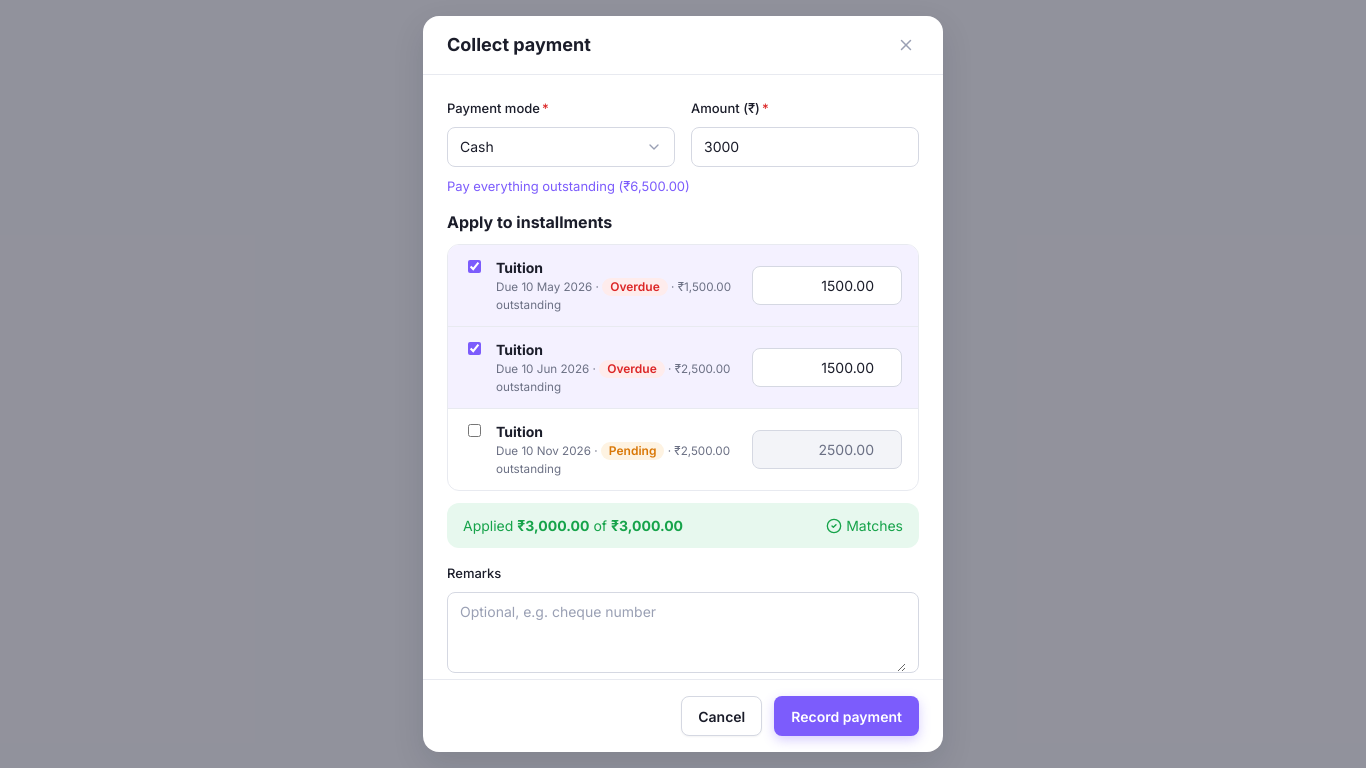
Test case: CollectPaymentDialogComponent › submit is disabled until the split equals the amount: editing one allocation breaks it, fixing it restores it
Expected: the button "Record payment" is enabled, [774,696,919,736]
Replace the text in the number field named "Amount for Tuition due 10 Jun 2026" with "1000" at (827, 368), box [752,348,902,387]
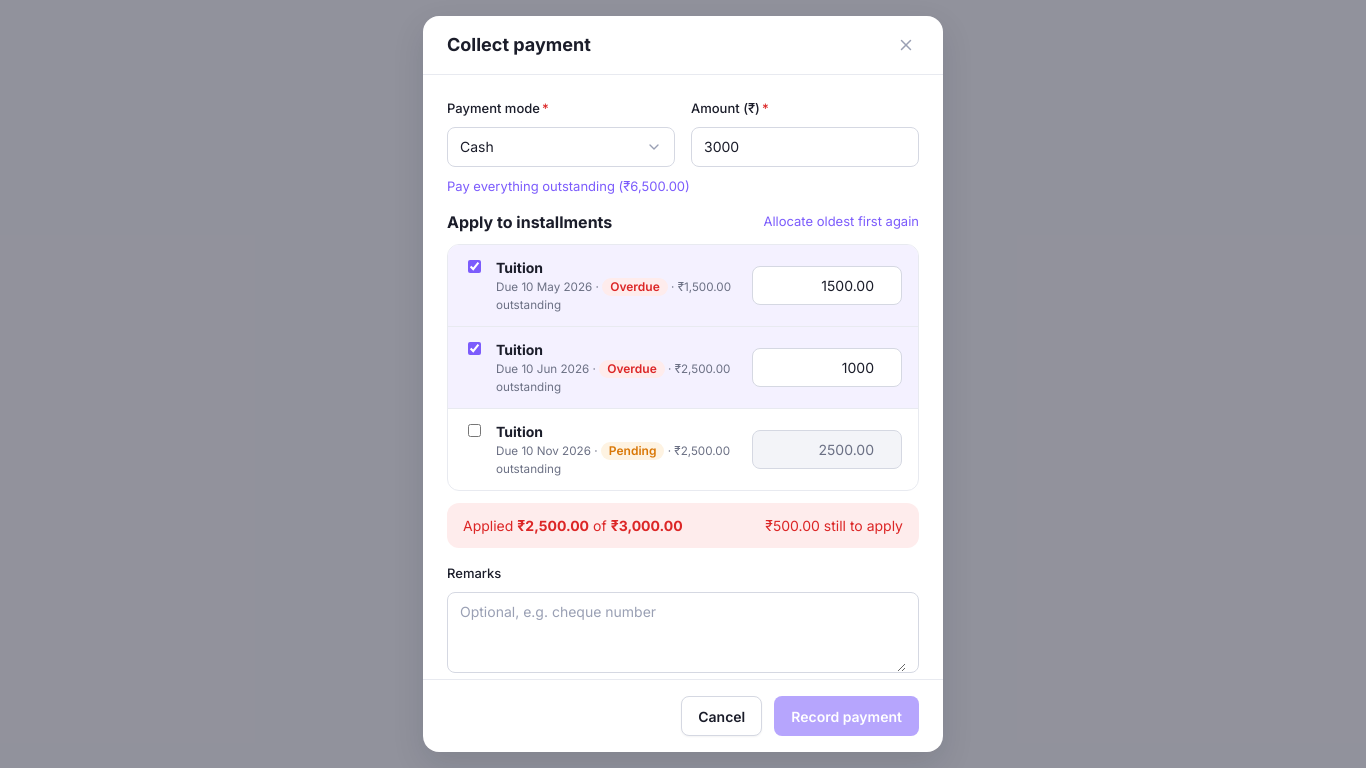
Result: the button "Record payment" is disabled at [774,696,919,736]
Replace the text in the number field named "Amount for Tuition due 10 Jun 2026" with "1500" at (827, 368), box [752,348,902,387]
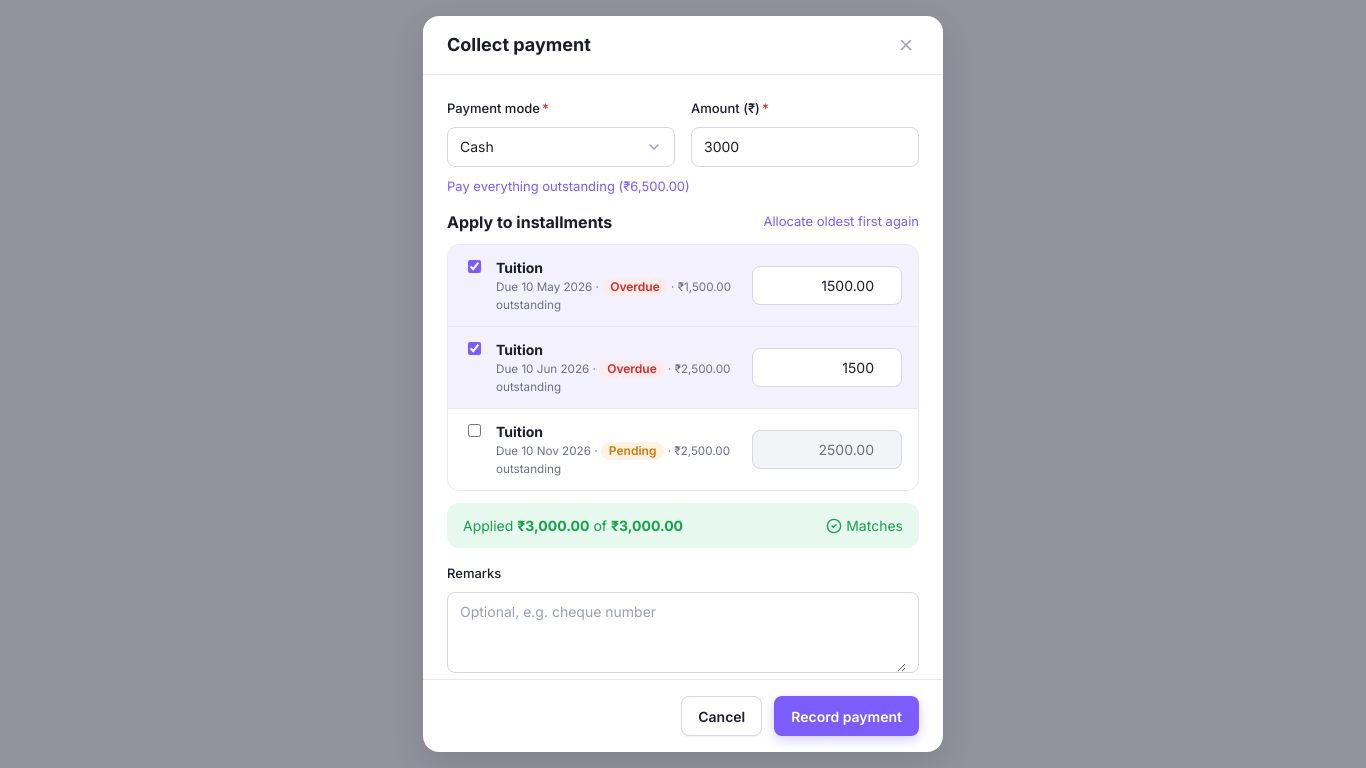
Result: the button "Record payment" is enabled at [774,696,919,736]
